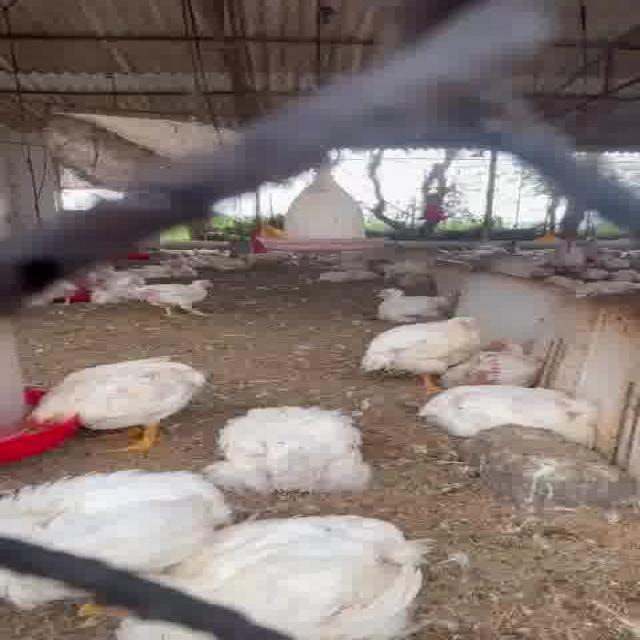AbNormal: (130, 515, 426, 640), (0, 470, 230, 592), (202, 399, 396, 492), (408, 386, 620, 438), (439, 346, 556, 388), (348, 284, 462, 324)
Normal: (11, 354, 206, 455), (362, 313, 490, 378), (130, 268, 232, 324)
